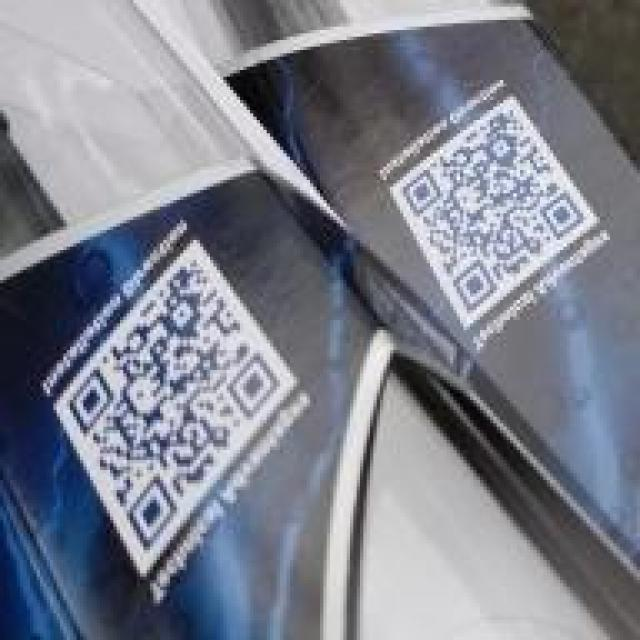QR_CODE: (58, 233, 290, 557), (393, 90, 597, 323)
